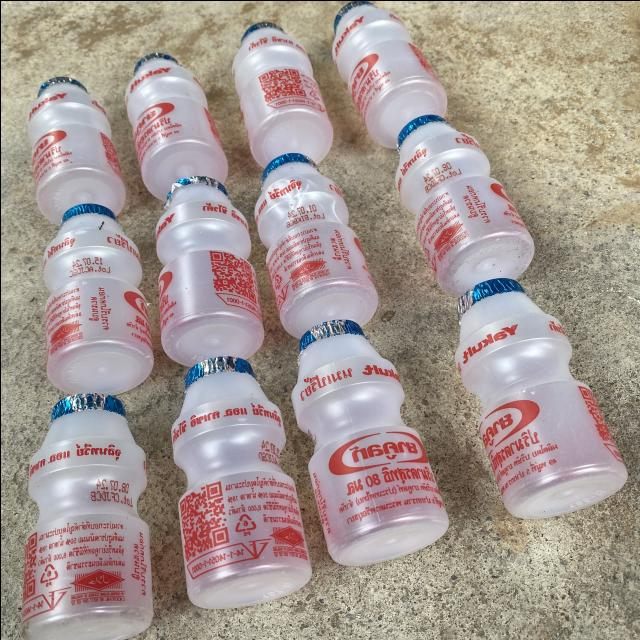plastik: (454, 278, 625, 517), (291, 320, 448, 563), (170, 355, 311, 607), (21, 392, 152, 640), (394, 114, 534, 296), (254, 153, 377, 337), (42, 203, 153, 394), (155, 175, 263, 366), (331, 0, 446, 147), (124, 52, 227, 199), (231, 21, 332, 166), (26, 76, 125, 223)
